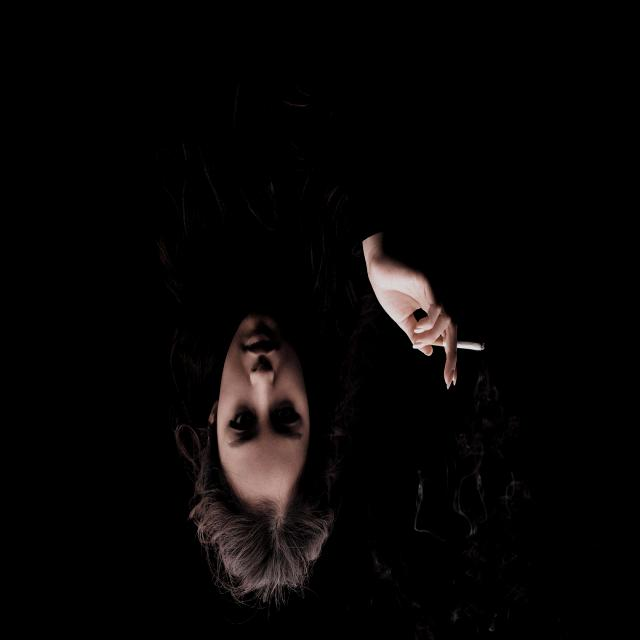cigarette: (419, 333, 487, 352)
